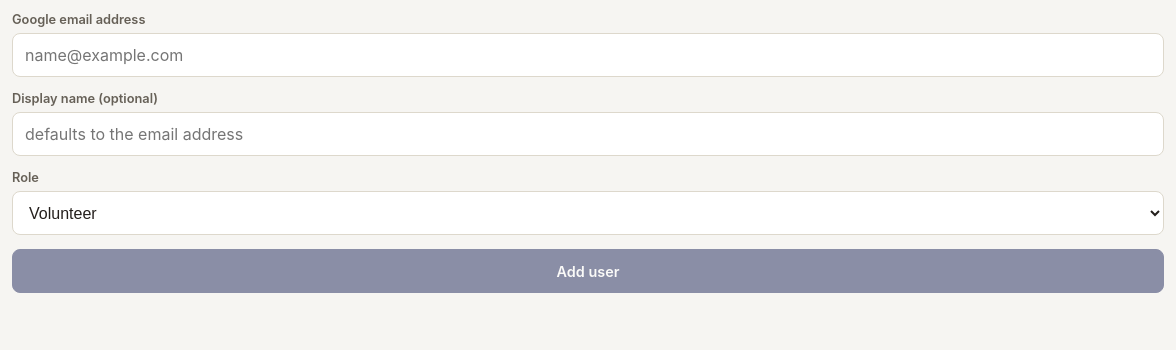
Test: AddUserForm › shows an error message when the request fails, e.g. a duplicate email
The width and height of the screenshot is (1176, 350).
Type "dupe@example.com" into the field labelled "Google email address" at (588, 55), box [12,33,1164,77]
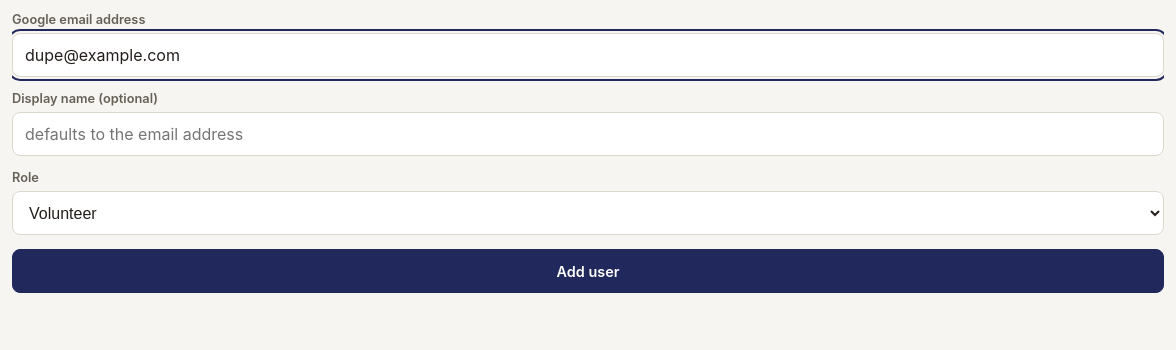
Click the button "Add user" at (588, 271), box [12,249,1164,293]
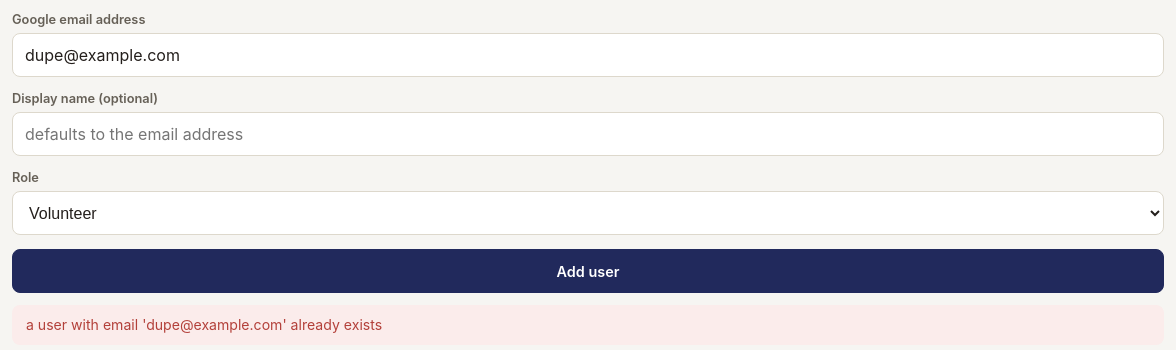
Expected: the message reads "a user with email 'dupe@example.com' already exists", [26,316,382,333]
